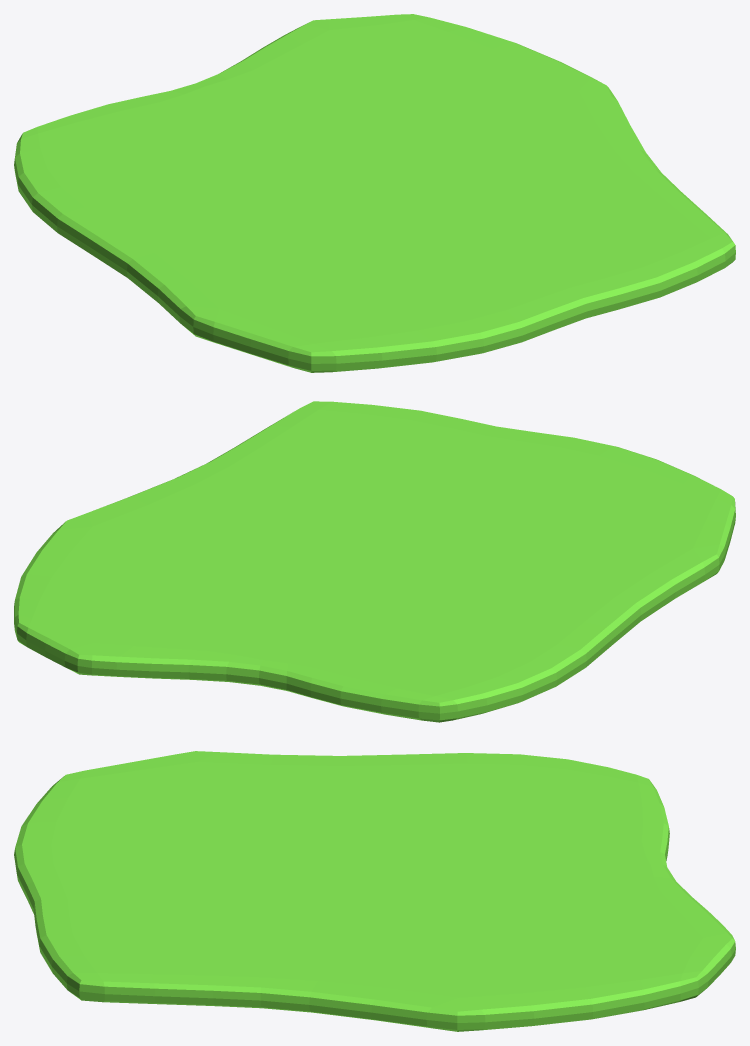
3 views of the same model, one above another, from view 1: azimuth 30°, elevation 25°; view 2: azimuth 150°, elevation 25°; view 3: azimuth 270°, elevation 25° (orthographic). The views are drawn at different scales.
Parts seen in each view (by area): view 1: Cube; view 2: Cube; view 3: Cube.
Boxes of the visible parts, <box> form: Cube: <box>14,14,735,372</box>; Cube: <box>14,401,735,722</box>; Cube: <box>14,751,735,1031</box>.
Bounding box in the file's own units: 24445 × 951 × 28339.
